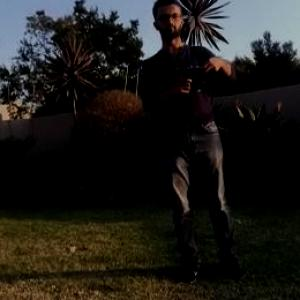follow: (138, 0, 254, 288)
